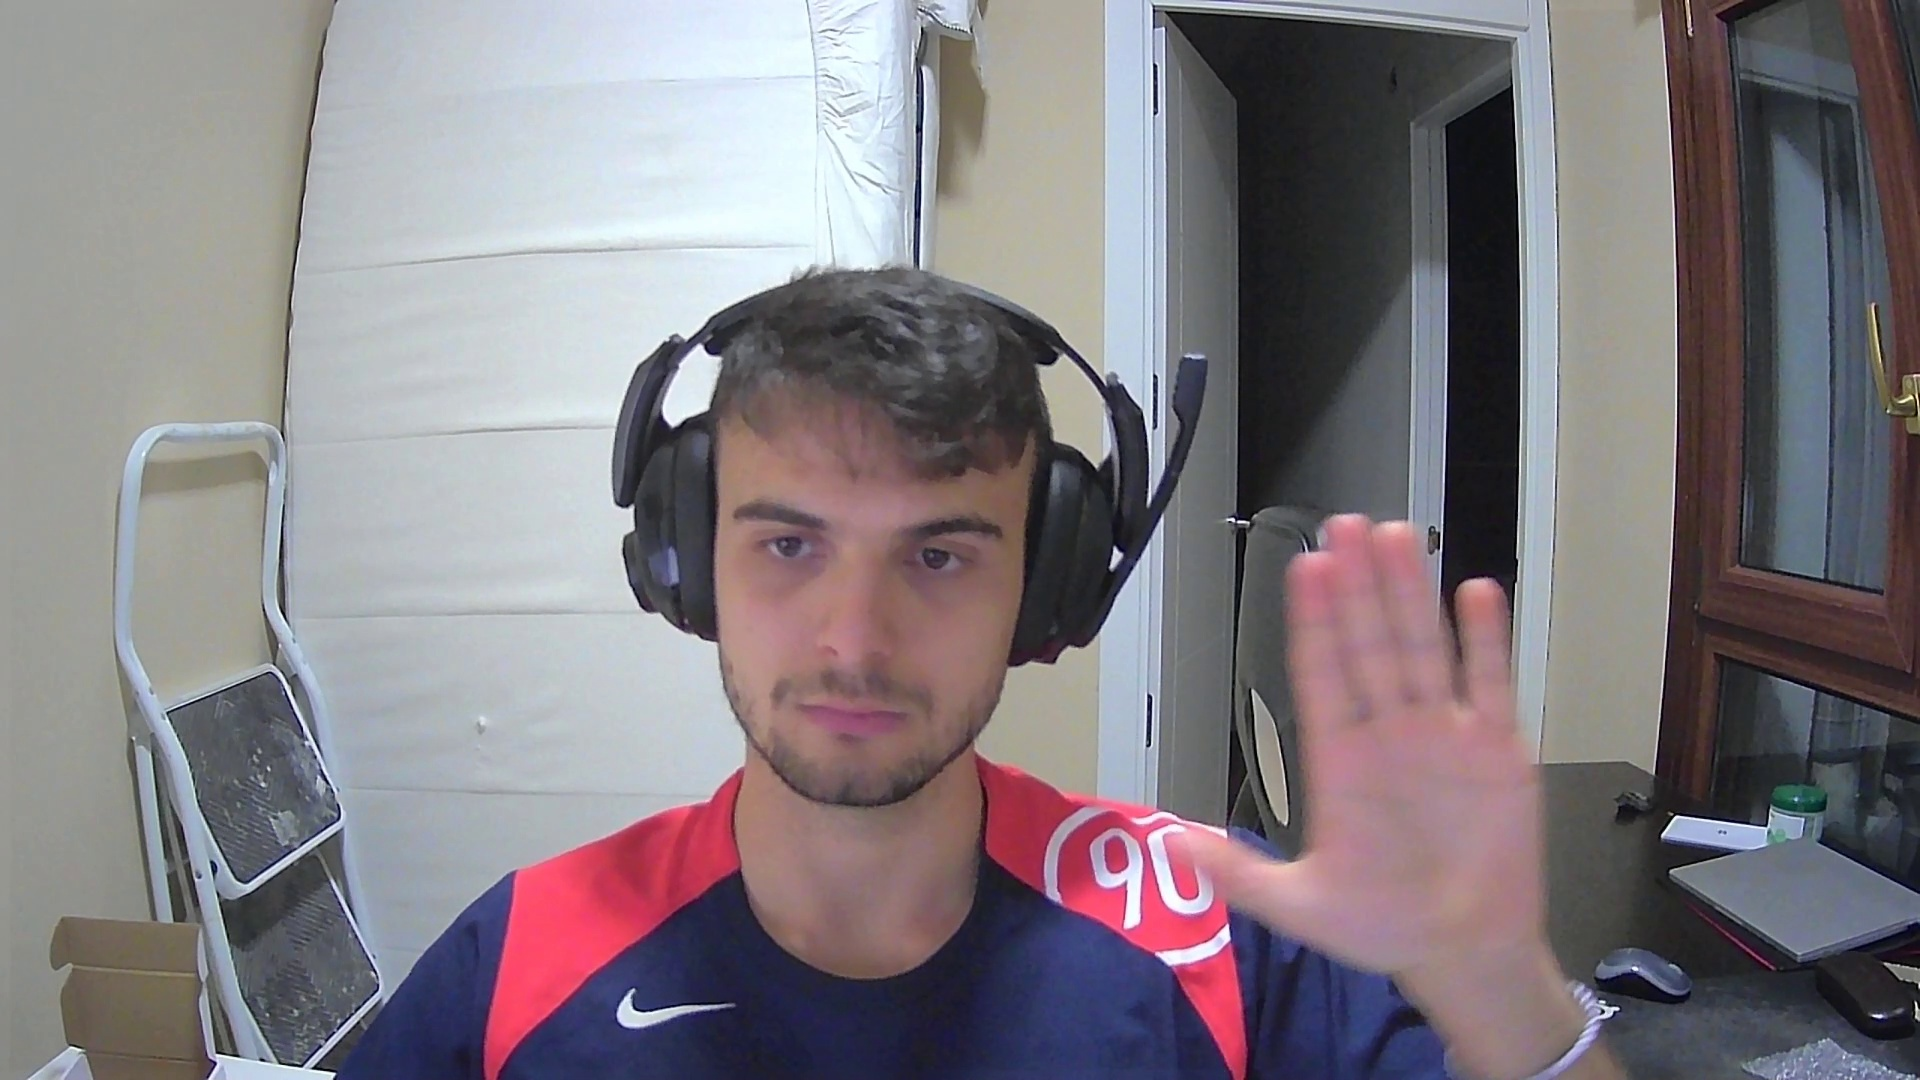Palm: (1178, 506, 1527, 997)
